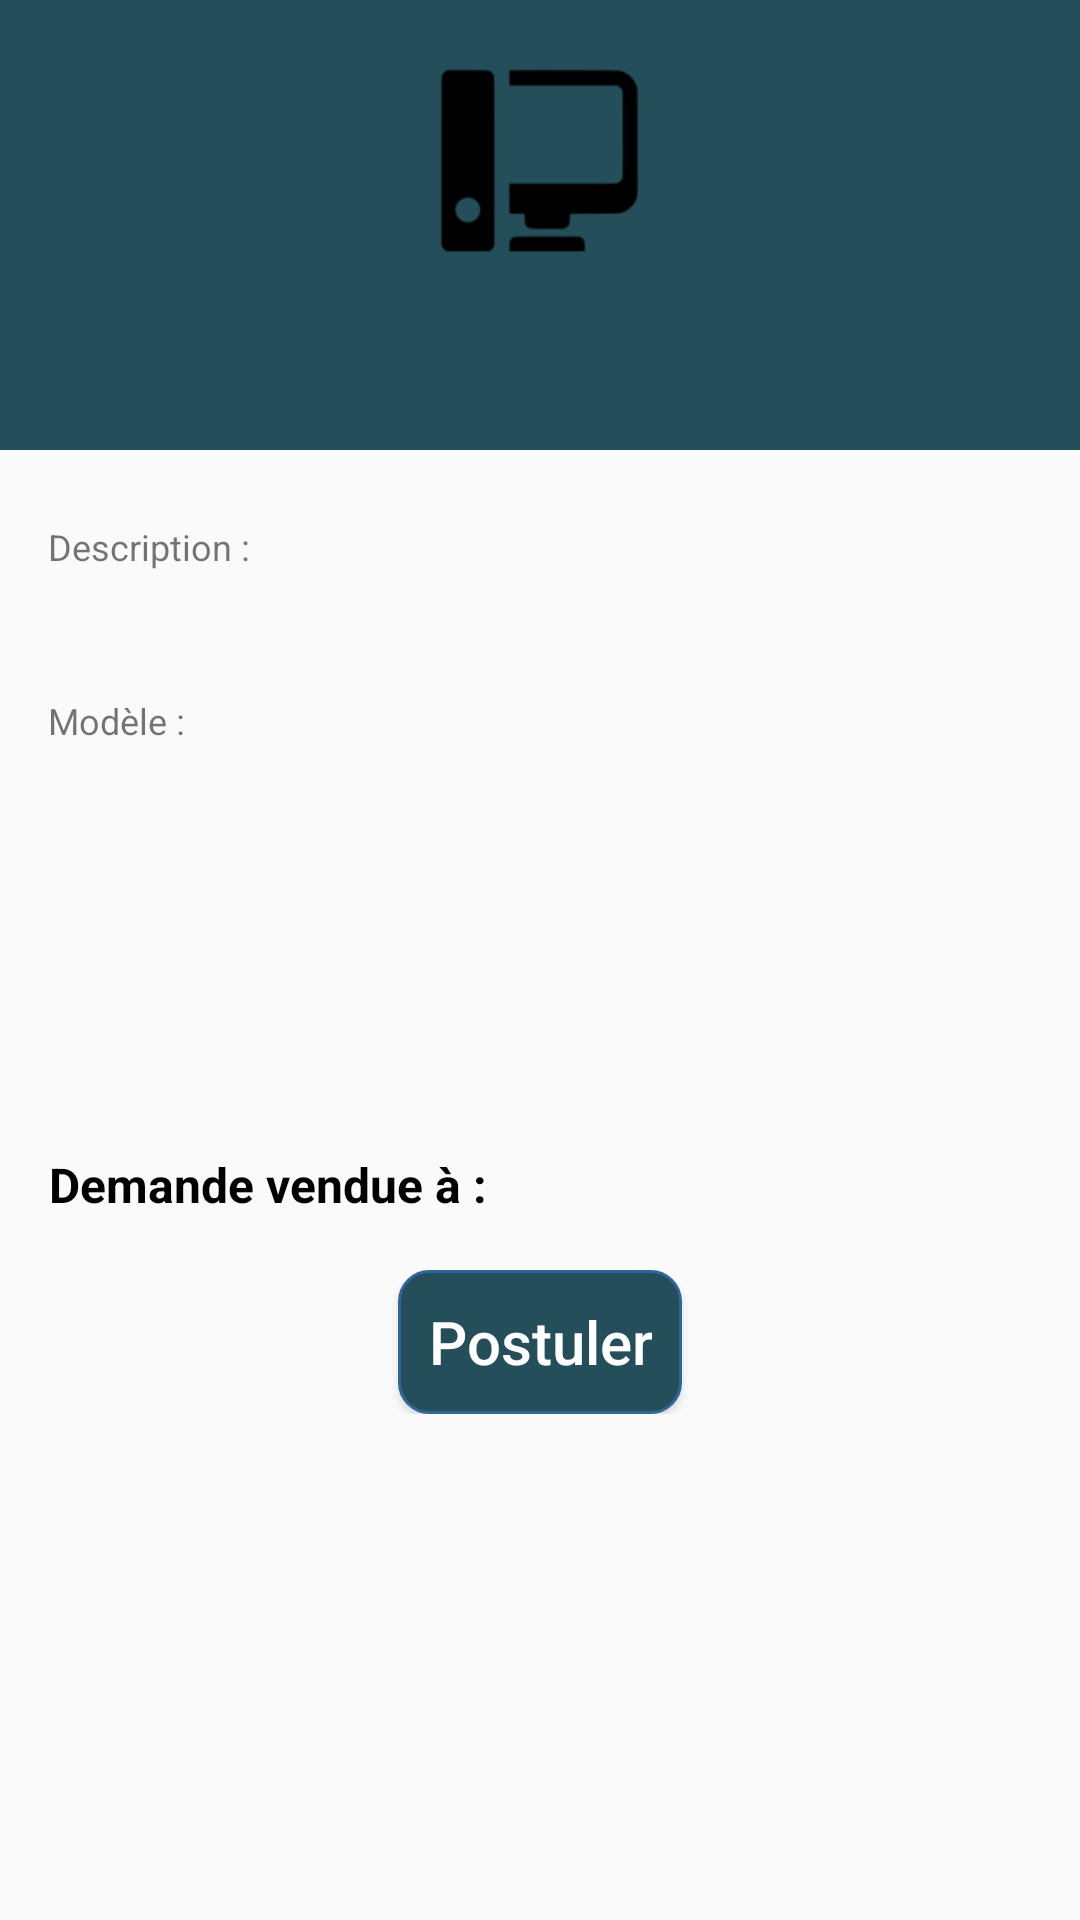

Icon bounding boxes for this 1080×1920 phone screenshot, format bbox=(x1, y1, x2, y2):
type hardware: bbox=(441, 70, 638, 252)
